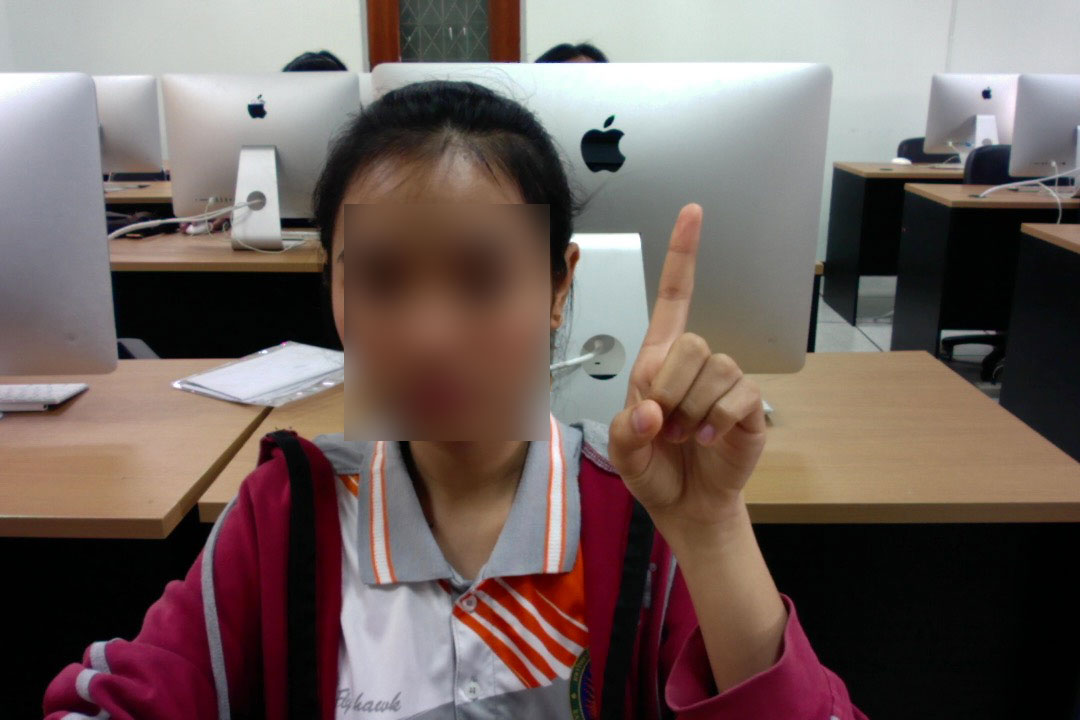dor: (606, 193, 778, 559)
